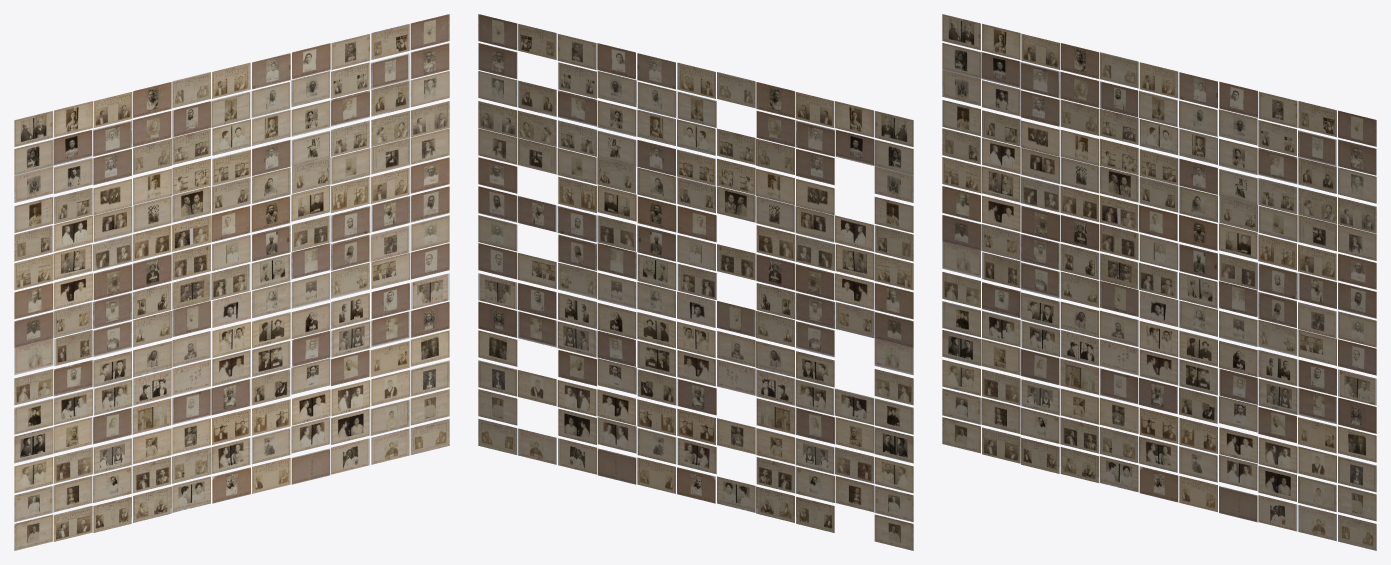
Rendered from card-web.glb.
3 renders of one model, left to right at view 1: azimuth 30°, elevation 25°; view 2: azimuth 150°, elevation 25°; view 3: azimuth 330°, elevation 25°, orthographic.
Size of the model in its own units: 2.71 by 2.57 by 1.7e-06.
Materials: 2 (2 with a texture image).
